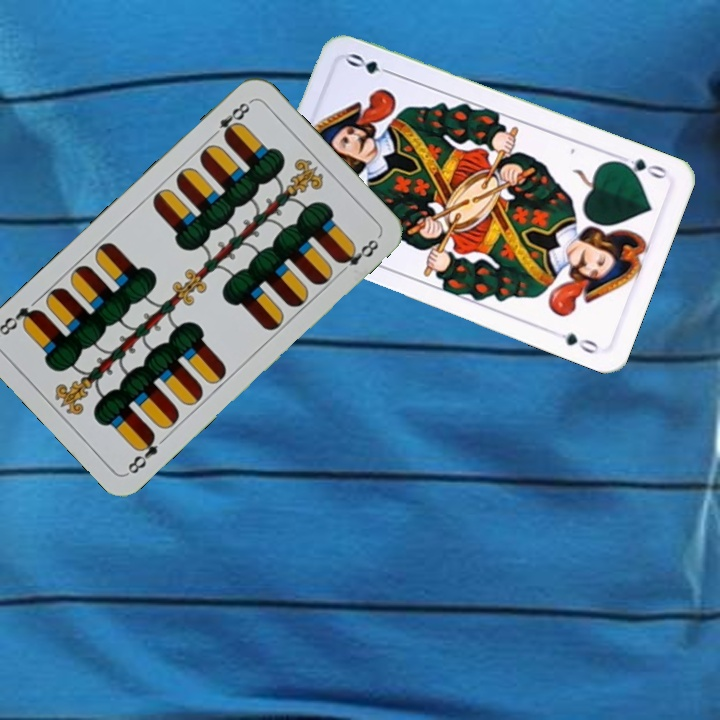E8: (206, 97, 254, 142), (123, 428, 161, 477)
GO: (612, 154, 670, 182)
